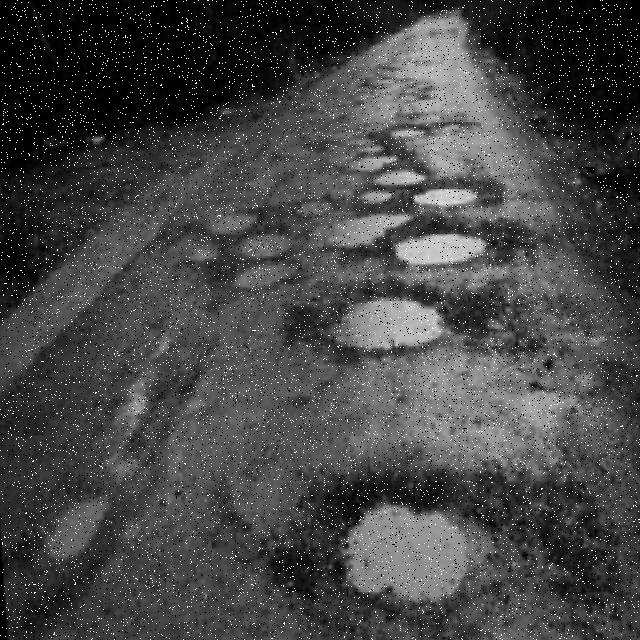pothole: (277, 462, 611, 640), (284, 277, 524, 365), (43, 498, 112, 567), (395, 231, 486, 267), (326, 214, 412, 250), (233, 264, 300, 291), (236, 234, 291, 257), (413, 188, 479, 207), (372, 167, 429, 188), (205, 212, 259, 234), (295, 198, 338, 217), (345, 157, 396, 172), (188, 243, 221, 262), (358, 190, 396, 205), (389, 128, 431, 140), (346, 138, 376, 147), (438, 123, 462, 133), (355, 145, 384, 152)
